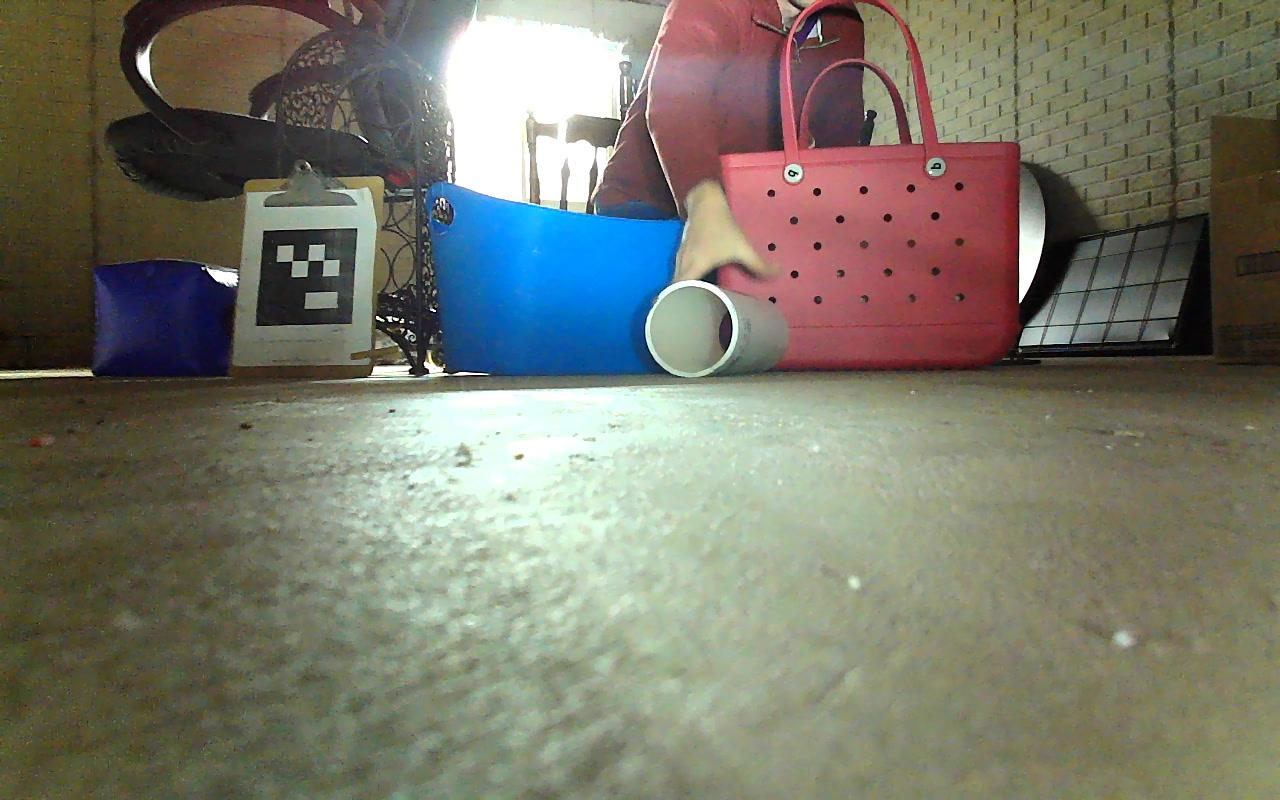coral: (645, 280, 788, 379)
